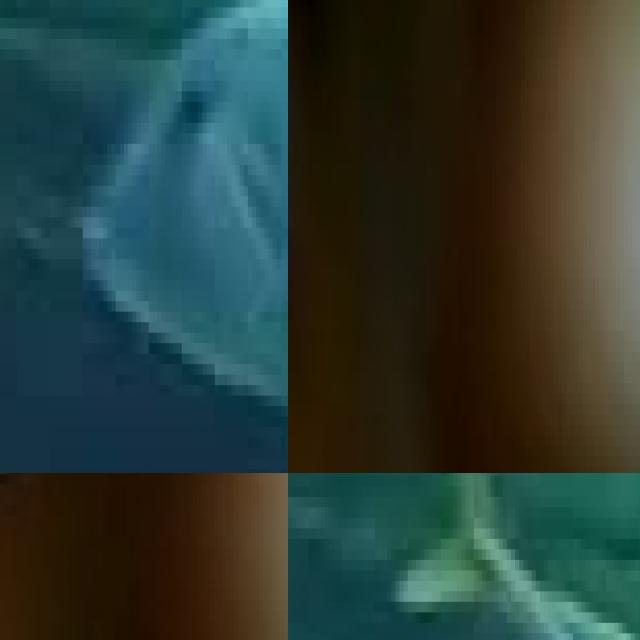fish: (0, 0, 288, 473), (0, 473, 288, 599)
